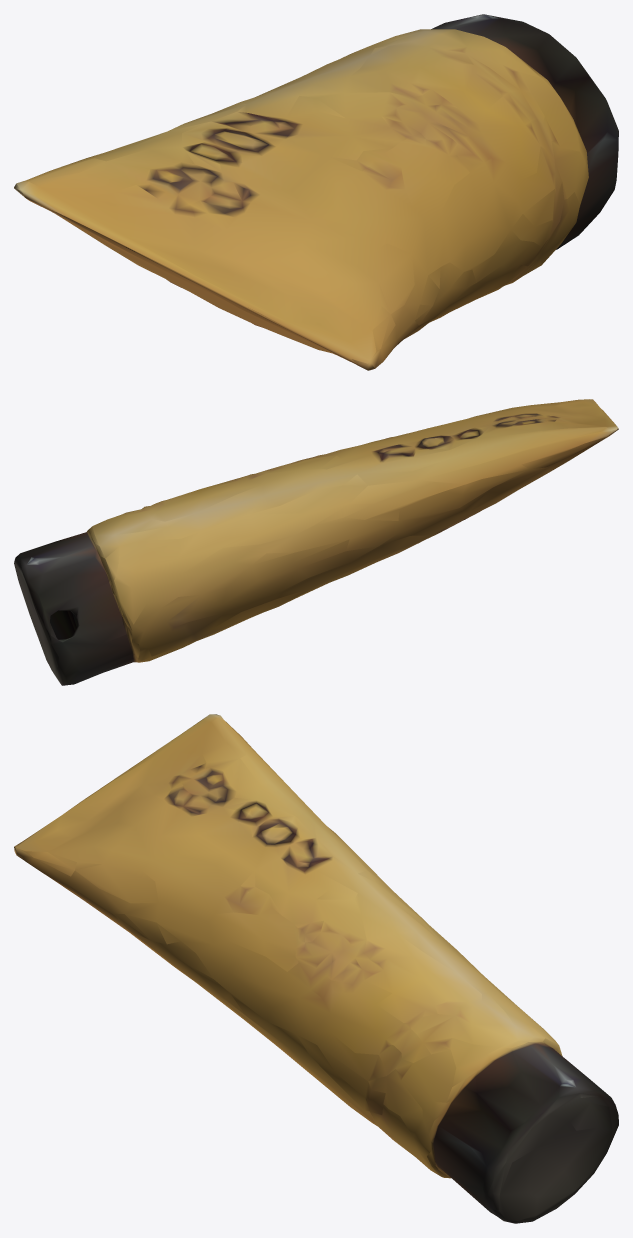
The model's file is 0004_mask_005_orange_tube.glb.
3 renders of one model, top to bottom at view 1: azimuth 30°, elevation 25°; view 2: azimuth 150°, elevation 25°; view 3: azimuth 270°, elevation 25°, orthographic. The views are drawn at different scales.
Parts seen in each view (by area): view 1: mask_005_object; view 2: mask_005_object; view 3: mask_005_object.
Boxes of the visible parts, x1,y1,x2,y2 form: mask_005_object: (14, 14, 618, 370); mask_005_object: (14, 399, 618, 685); mask_005_object: (14, 714, 618, 1223).
Bounding box in the file's own units: 0.311 × 0.1566 × 0.3074.
